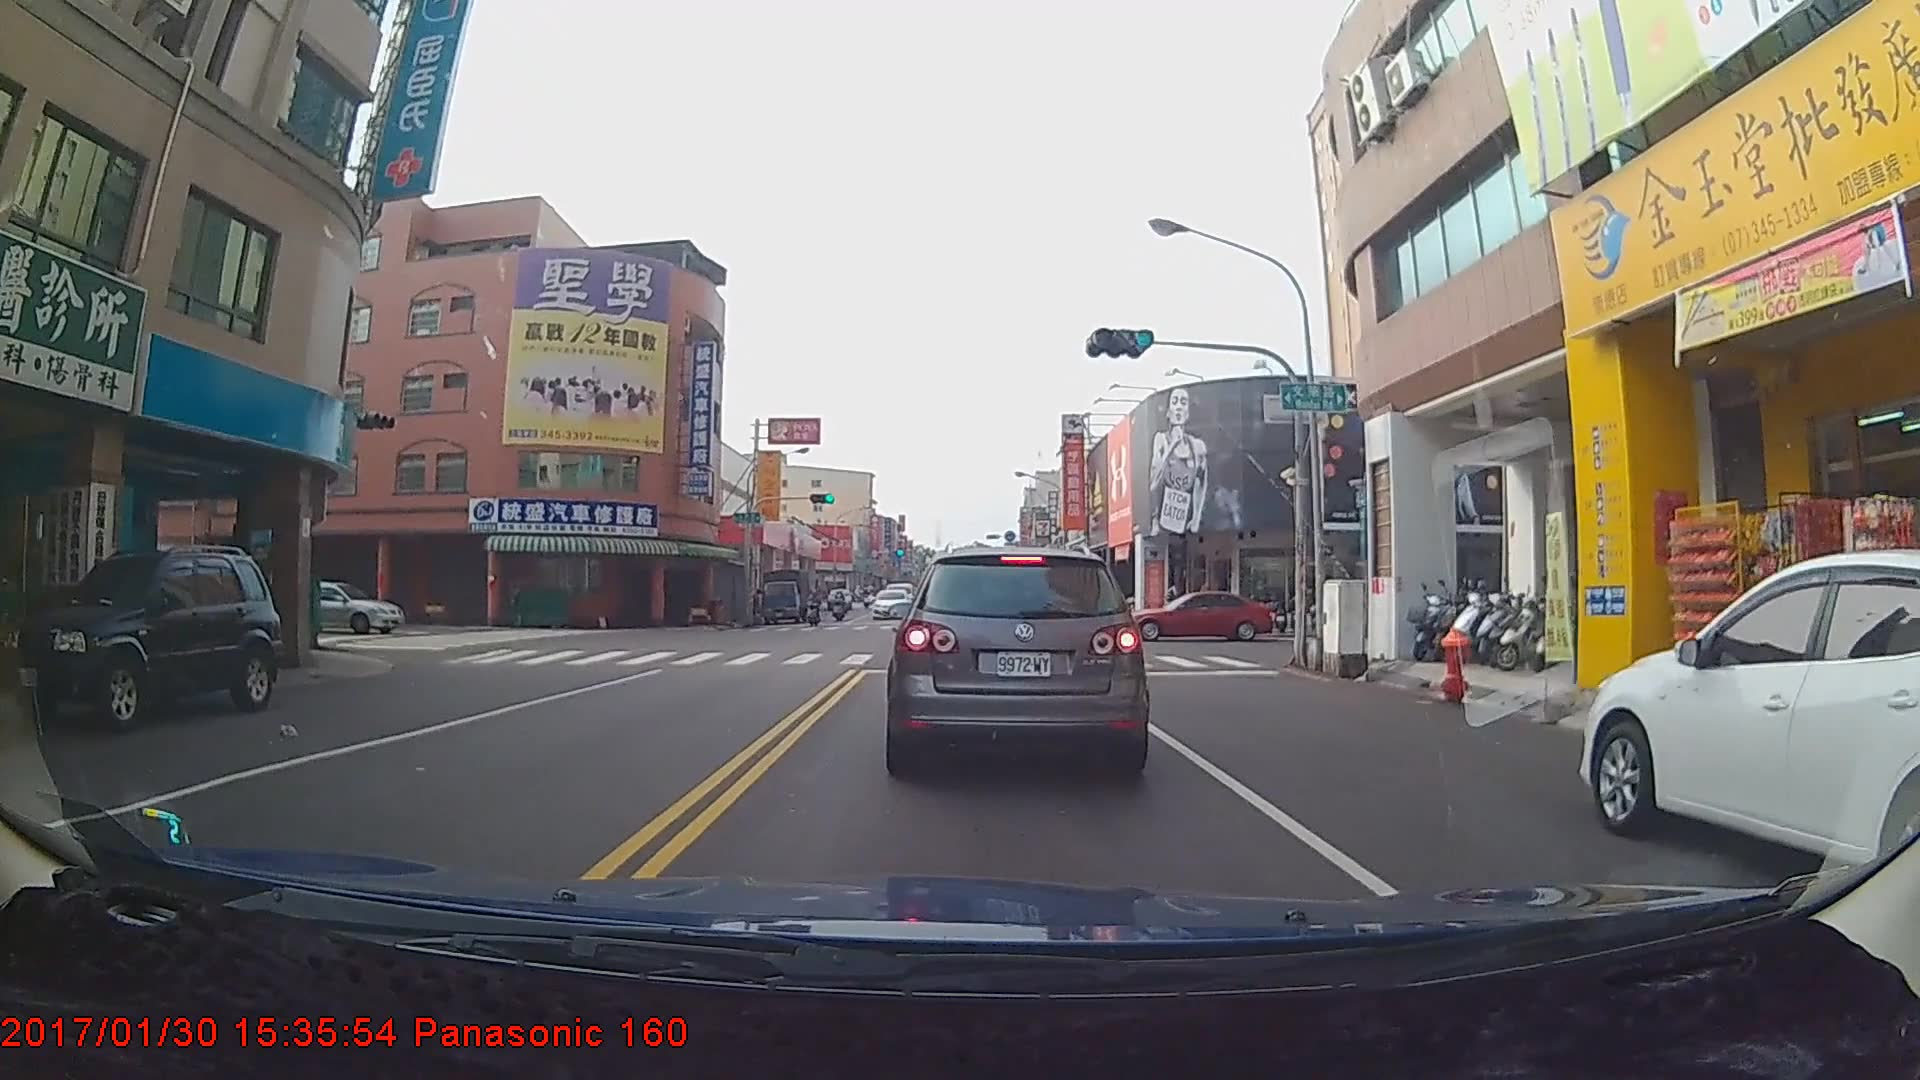rider: (799, 589, 826, 630), (832, 592, 853, 628)
vehicle: (1580, 547, 1920, 924), (888, 542, 1142, 774), (7, 544, 283, 734), (1118, 587, 1273, 640), (266, 576, 408, 629), (758, 570, 813, 628), (868, 588, 909, 622)
